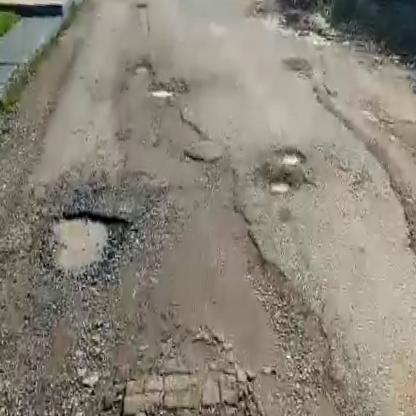pothole: (40, 208, 133, 285), (275, 144, 307, 168), (148, 82, 175, 101), (266, 177, 291, 195), (132, 61, 153, 77)
